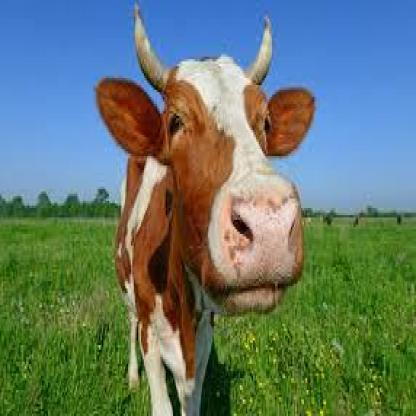cow: (100, 9, 318, 416)
